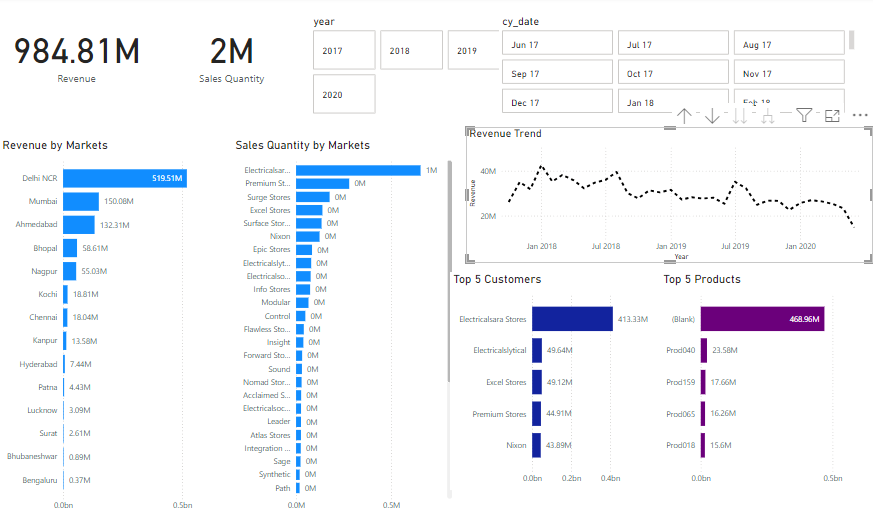

The dashboard page shown, as its layout file describes it:
{"tool":"powerbi","page":{"name":"Page 1","canvas":[1350,850],"ordinal":0},"visuals":[{"type":"card","fields":{"Values":["BaseMeasures.Revenue"]},"box":[0,0,239.7,173.4],"z":0},{"type":"card","fields":{"Values":["BaseMeasures.Sales Quantity"]},"box":[239.7,0,239.7,173.4],"z":1000},{"type":"barChart","title":"Revenue by Markets","fields":{"Y":["BaseMeasures.Revenue"],"Category":["sales markets.markets_name"]},"box":[0,217.9,359.6,586.4],"z":2000},{"type":"barChart","title":"Sales Quantity by Markets","fields":{"Y":["BaseMeasures.Sales Quantity"],"Category":["sales customers.custmer_name"]},"box":[359.6,217.9,345.5,586.4],"z":3000},{"type":"advancedSlicerVisual","fields":{"Values":["sales date.year"]},"box":[480.1,28.3,315.4,157.7],"z":4000},{"type":"advancedSlicerVisual","fields":{"Values":["sales date.cy_date"]},"box":[772.4,28.3,554.5,157.7],"z":5000},{"type":"barChart","title":"Top 5 Customers","fields":{"Y":["BaseMeasures.Revenue"],"Category":["sales customers.custmer_name"]},"box":[696.3,425.2,326,336.6],"z":6000},{"type":"barChart","title":"Top 5 Products","fields":{"Y":["BaseMeasures.Revenue"],"Category":["sales products.product_code"]},"box":[1022.2,425.2,327.8,336.6],"z":7000},{"type":"lineChart","title":"Revenue Trend","fields":{"Y":["BaseMeasures.Revenue"],"Category":["sales date.cy_date.Variation.Date Hierarchy.Year","sales date.cy_date.Variation.Date Hierarchy.Quarter","sales date.cy_date.Variation.Date Hierarchy.Month","sales date.cy_date.Variation.Date Hierarchy.Day"]},"box":[721.1,200.2,628.9,210.8],"z":8000}]}

Visuals, with their boxes on the page's 1350x850 design canvas (x1, y1, x2, y2). These are canvas units, not pixel positions in the 873x532 screenshot, which may show the page scaled, cropped or inside an application window:
card - BaseMeasures.Revenue: l=0, t=0, r=240, b=173
card - BaseMeasures.Sales Quantity: l=240, t=0, r=479, b=173
"Revenue by Markets" barChart: l=0, t=218, r=360, b=804
"Sales Quantity by Markets" barChart: l=360, t=218, r=705, b=804
advancedSlicerVisual - sales date.year: l=480, t=28, r=796, b=186
advancedSlicerVisual - sales date.cy_date: l=772, t=28, r=1327, b=186
"Top 5 Customers" barChart: l=696, t=425, r=1022, b=762
"Top 5 Products" barChart: l=1022, t=425, r=1350, b=762
"Revenue Trend" lineChart: l=721, t=200, r=1350, b=411
